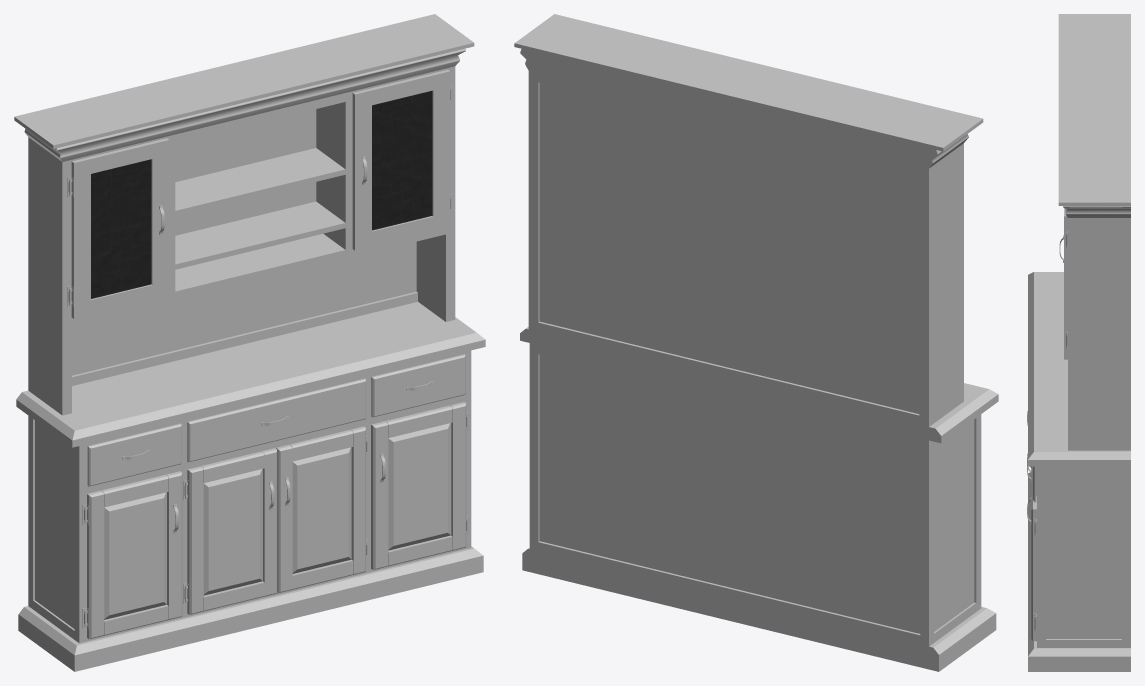
The model's file is kitchen_dresser.fbx.
The picture shows the model from 3 angles, left to right: view 1: azimuth 30°, elevation 25°; view 2: azimuth 150°, elevation 25°; view 3: azimuth 270°, elevation 25°; orthographic projection. The views are drawn at different scales.
Visible parts, largest first — view 1: Body_Mat1, Door_Top1, Door_Top2, Door_A_Left_01, Door_A_Right_02, Door_B_Left_01, Door_B_Right_01, Drawer_Middle1, Drawer_Right1, Drawer_Left1; view 2: Body_Mat1; view 3: Body_Mat1, Door_A_Right_02, Door_Top2.
Part boxes in pixels (x1=…): Body_Mat1: x1=14, y1=14, x2=485, y2=671; Door_Top1: x1=69, y1=138, x2=169, y2=318; Door_Top2: x1=352, y1=69, x2=451, y2=250; Door_A_Left_01: x1=84, y1=471, x2=182, y2=639; Door_A_Right_02: x1=371, y1=402, x2=468, y2=569; Door_B_Left_01: x1=185, y1=448, x2=277, y2=614; Door_B_Right_01: x1=276, y1=426, x2=367, y2=593; Drawer_Middle1: x1=187, y1=378, x2=365, y2=462; Drawer_Right1: x1=371, y1=354, x2=465, y2=417; Drawer_Left1: x1=87, y1=423, x2=181, y2=486; Body_Mat1: x1=514, y1=14, x2=998, y2=671; Body_Mat1: x1=1028, y1=14, x2=1130, y2=671; Door_A_Right_02: x1=1027, y1=469, x2=1036, y2=641; Door_Top2: x1=1059, y1=208, x2=1067, y2=359.
Bounding box in the file's own units: 73.53 × 86.02 × 17.12.
